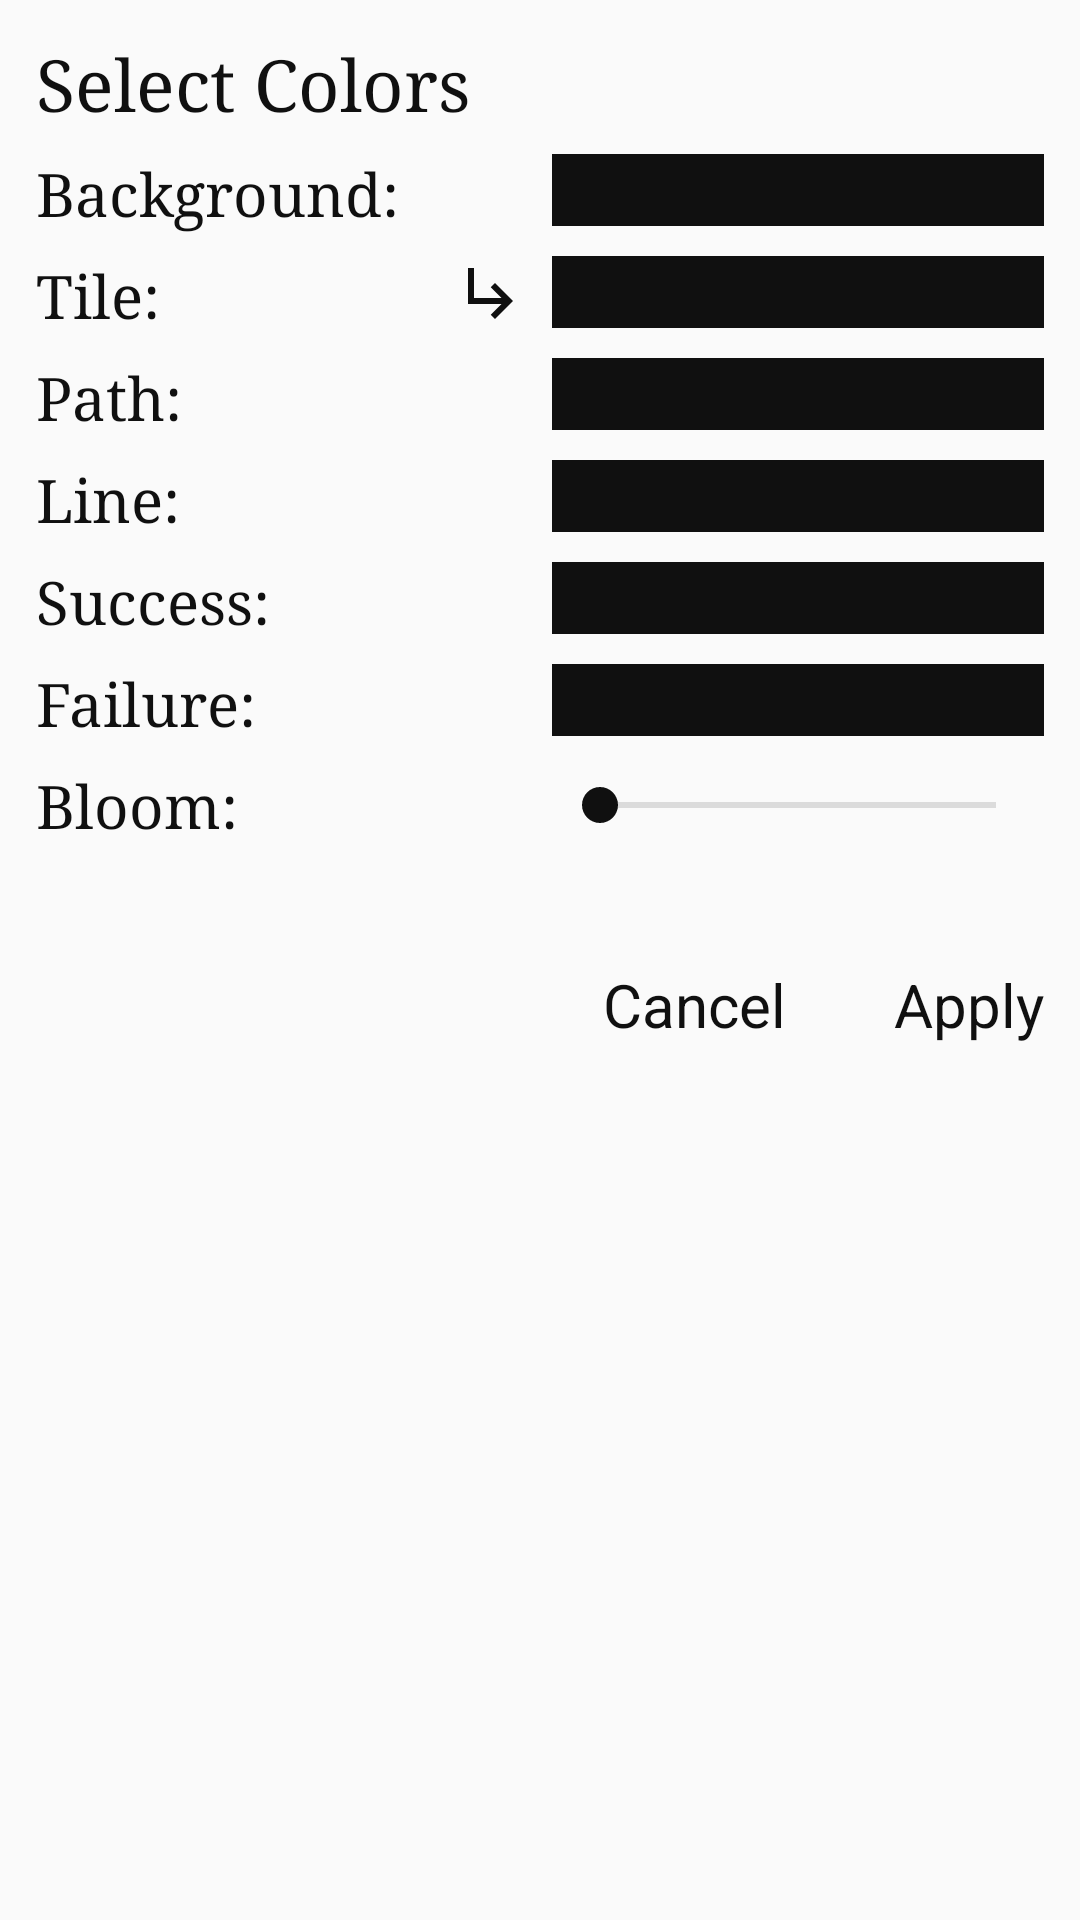

Icon click points for this 1080px x 1920px phone screenshot, format point (x, y):
subdirectory arrow right: point (490, 293)
